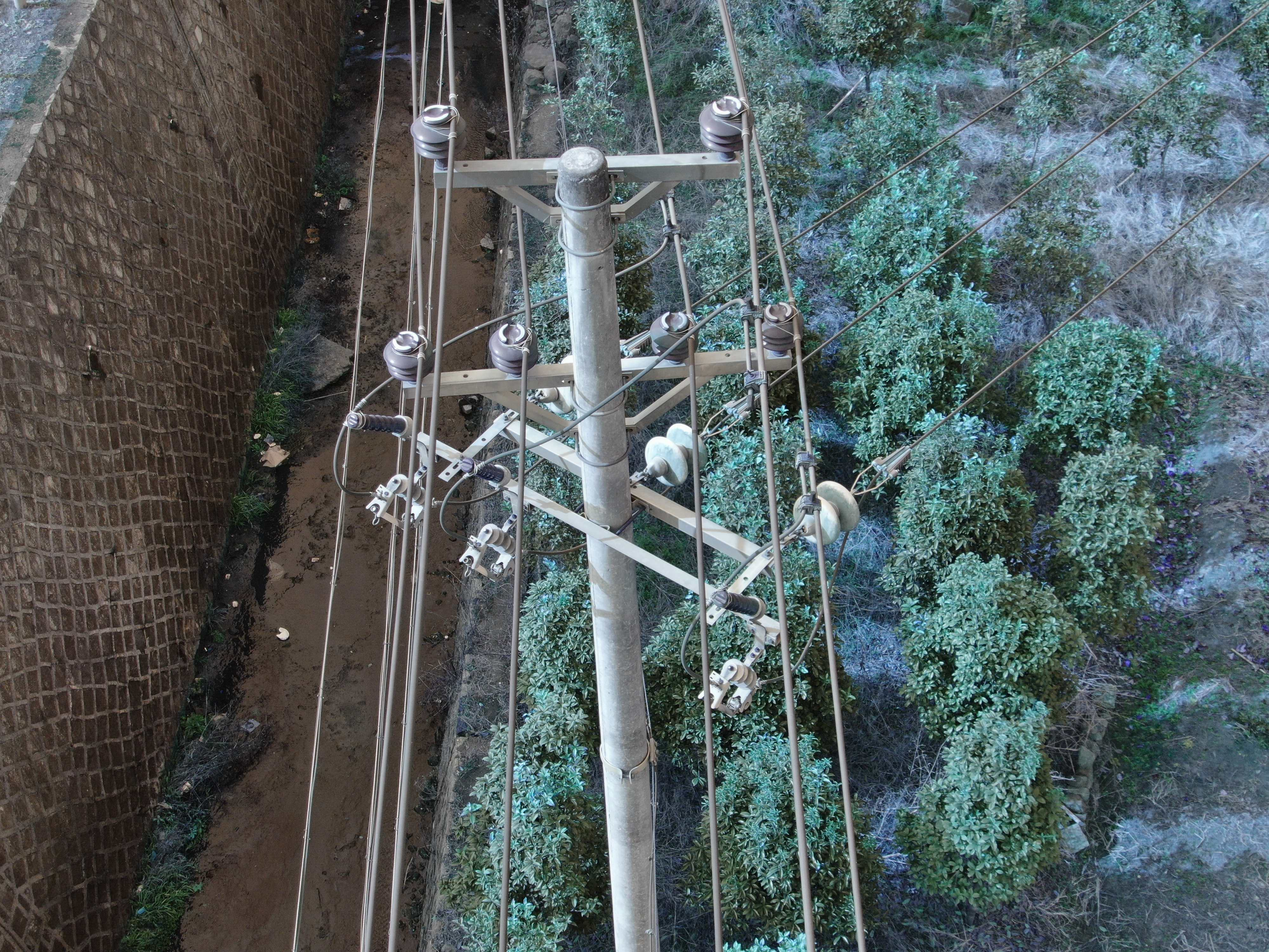severe_soiling_no_discharge_whole: (792, 479, 865, 547), (641, 421, 708, 491)
